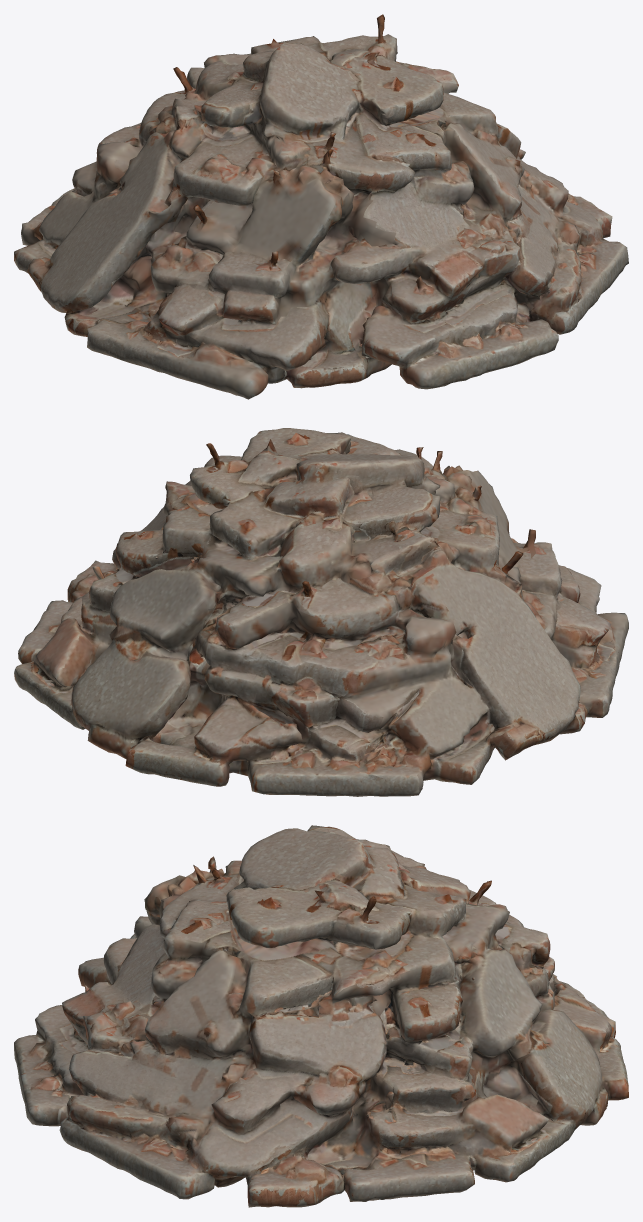
File: Prop_Rubble.glb
3 renders of one model, top to bottom at view 1: azimuth 30°, elevation 25°; view 2: azimuth 150°, elevation 25°; view 3: azimuth 270°, elevation 25°, orthographic. The views are drawn at different scales.
Parts seen in each view (by area): view 1: texture_mapping; view 2: texture_mapping; view 3: texture_mapping.
Boxes of the visible parts, x1,y1,x2,y2 form: texture_mapping: [14, 14, 628, 399]; texture_mapping: [14, 428, 628, 796]; texture_mapping: [14, 825, 628, 1207].
Size of the model in its own units: 0.9942 by 0.4123 by 0.9966.
1 material, 1 textured.
